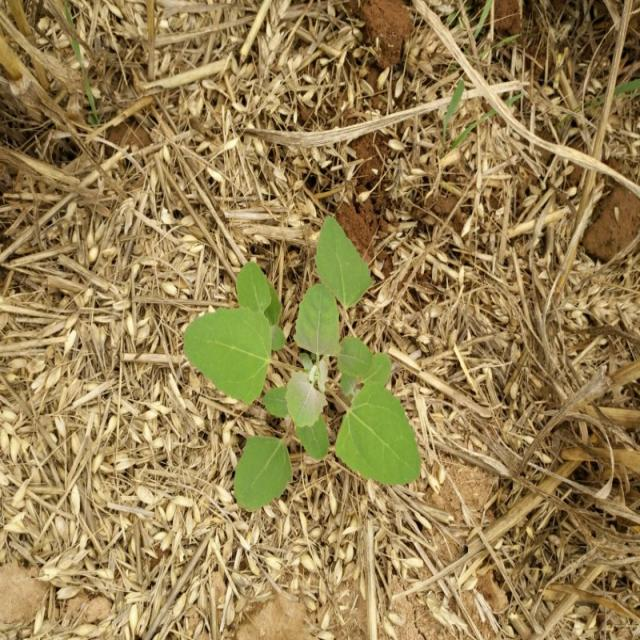ca: (184, 217, 421, 504)
